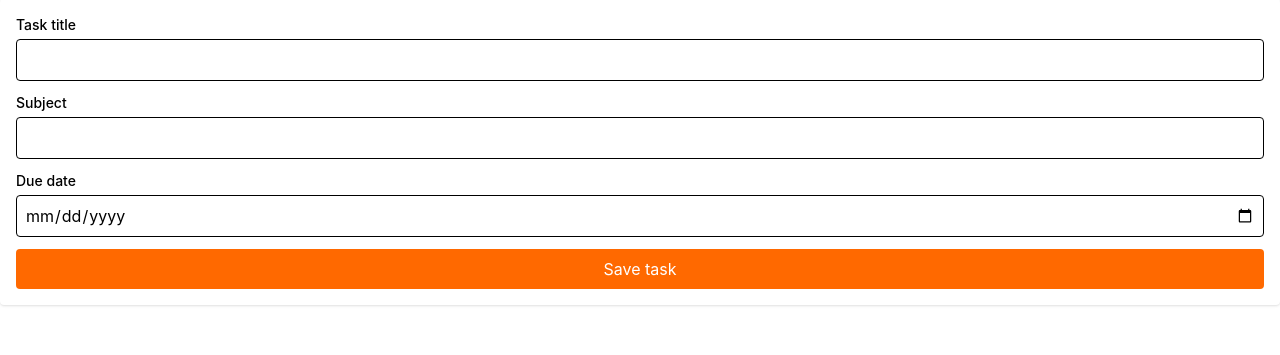
it: shows an error when saving fails
In the field labelled "Task title": (640, 60) [16,39,1264,81], type "Math"
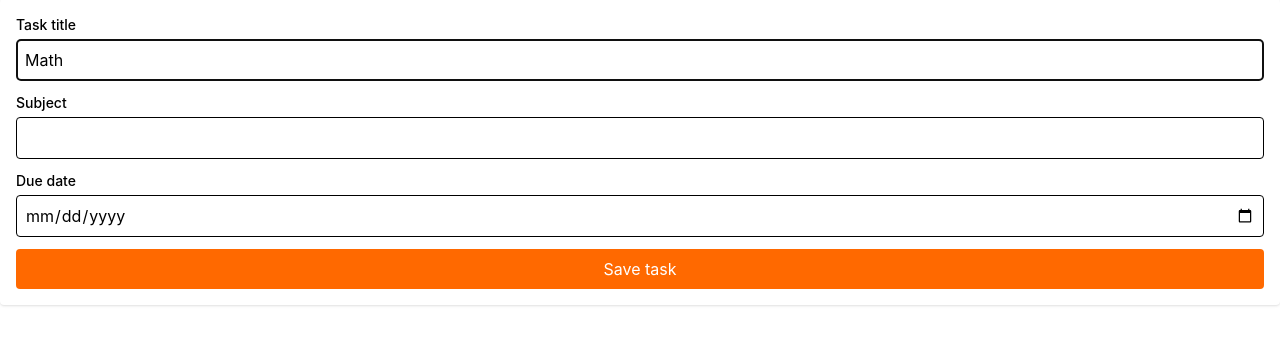
In the date field labelled "Due date": (640, 216) [16,195,1264,237], type "2026-12-01"
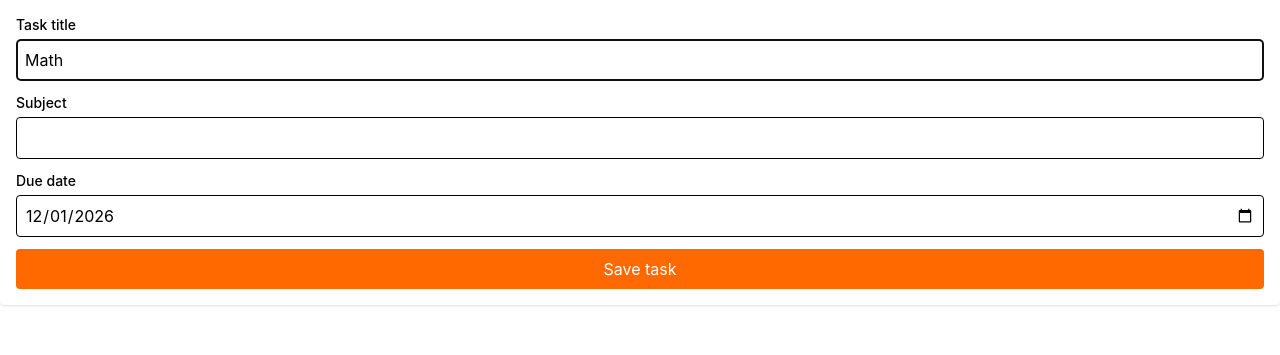
Click the button "Save task": (640, 269) [16,249,1264,289]
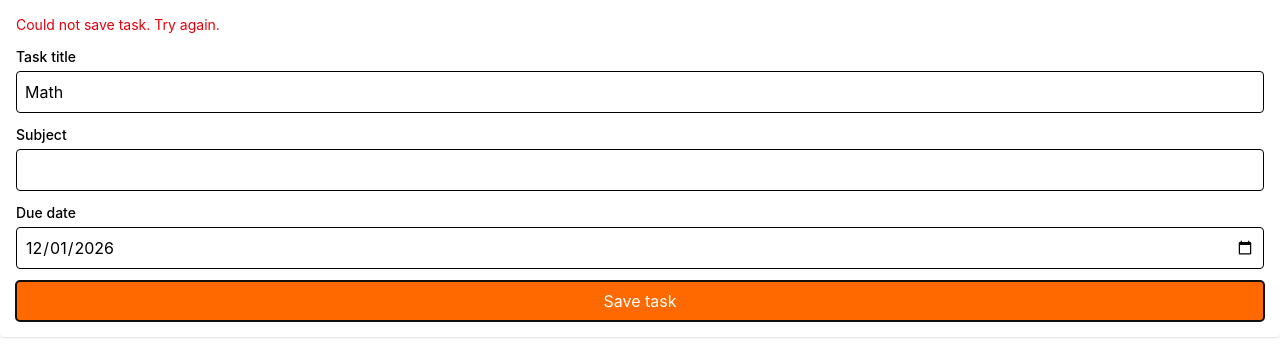
Expected: the message shows "Could not save", [16,16,220,33]
